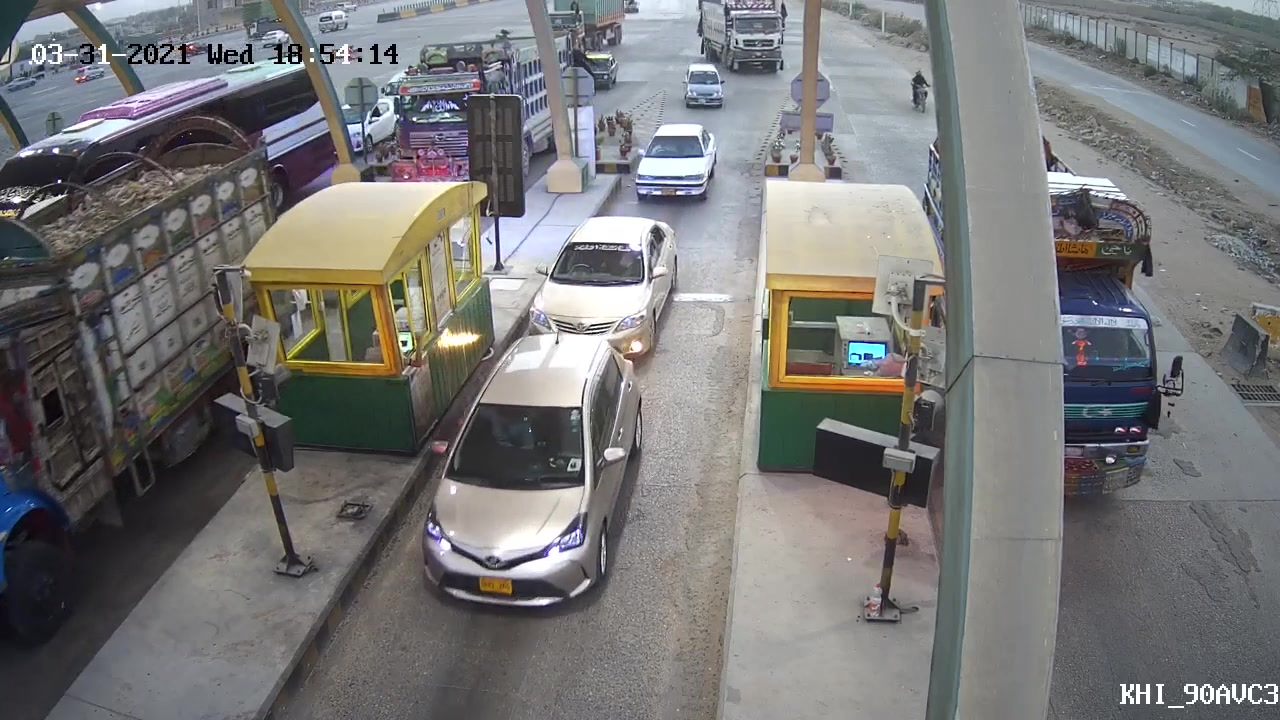F1: (415, 324, 651, 626), (533, 211, 684, 358), (631, 115, 725, 201)
